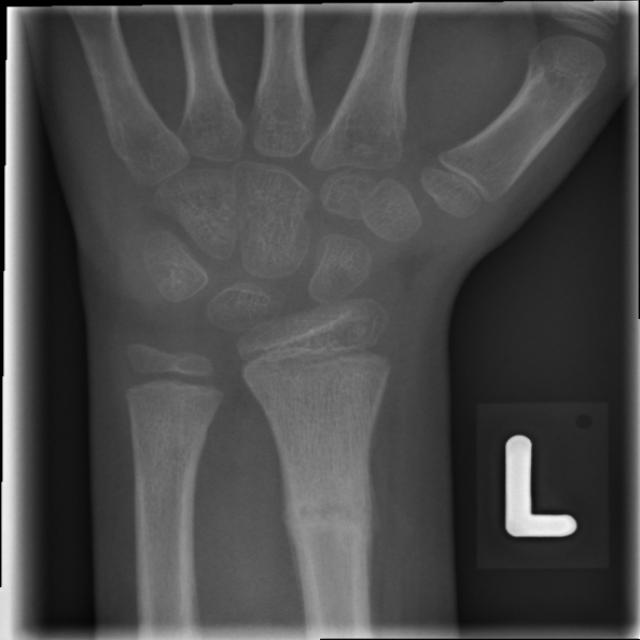radius fracture: (251, 428, 426, 620)
